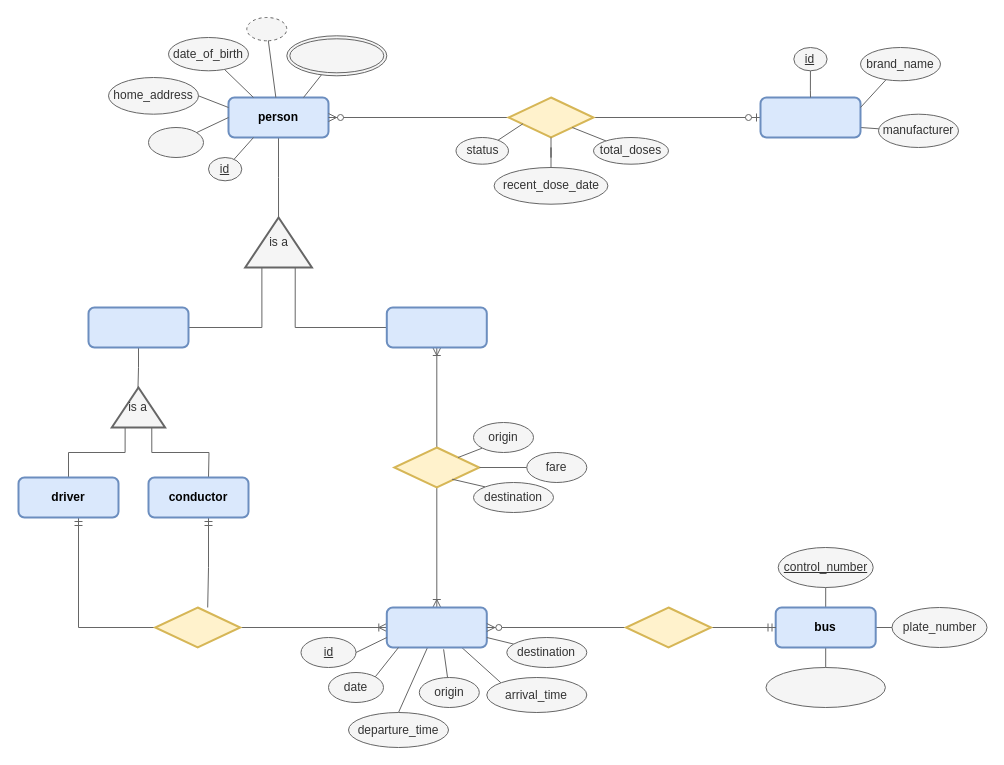
The diagram is 1004 pixels wide and 765 high, and some of its shapes have lost their labels. Each missing label, with the centre of its shape:
age: (x=266, y=28)
contact_number: (x=336, y=55)
employee: (x=138, y=327)
has: (x=668, y=627)
name: (x=176, y=142)
operates: (x=197, y=627)
passenger: (x=436, y=327)
passenger_capacity: (x=825, y=687)
pays: (x=436, y=467)
taken: (x=550, y=117)
trip: (x=436, y=627)
vaccine: (x=810, y=117)
